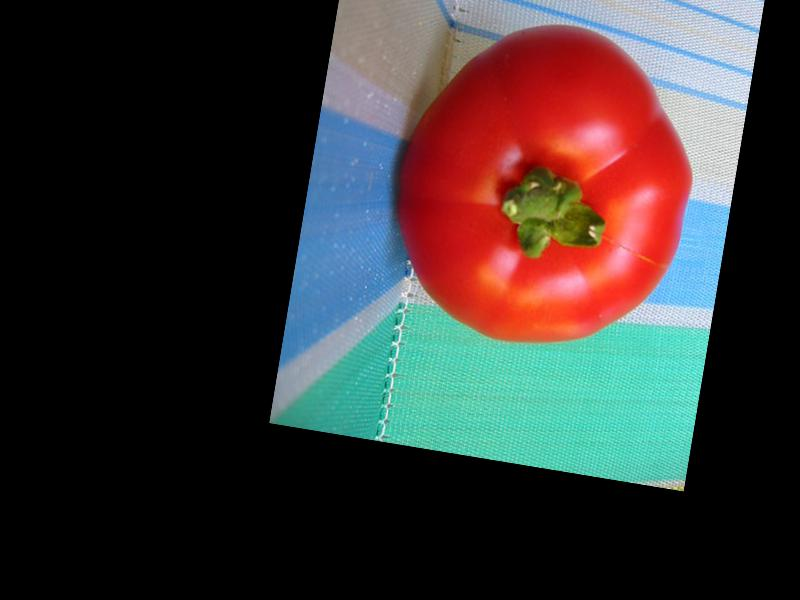Tomato: (374, 4, 713, 366)
